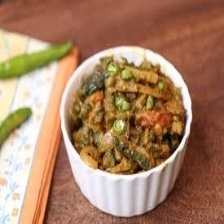sabzi: (63, 49, 194, 180)
